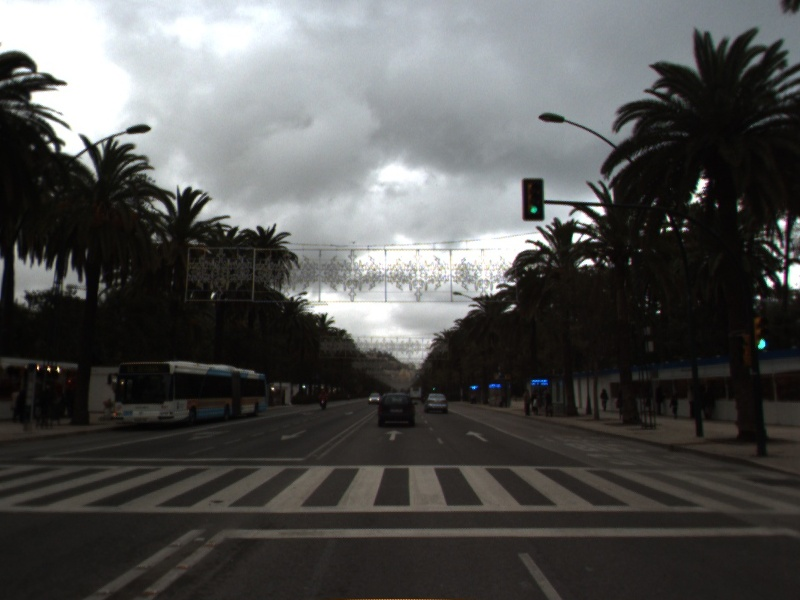STRAIGHT: (464, 428, 490, 443), (383, 428, 405, 442)
